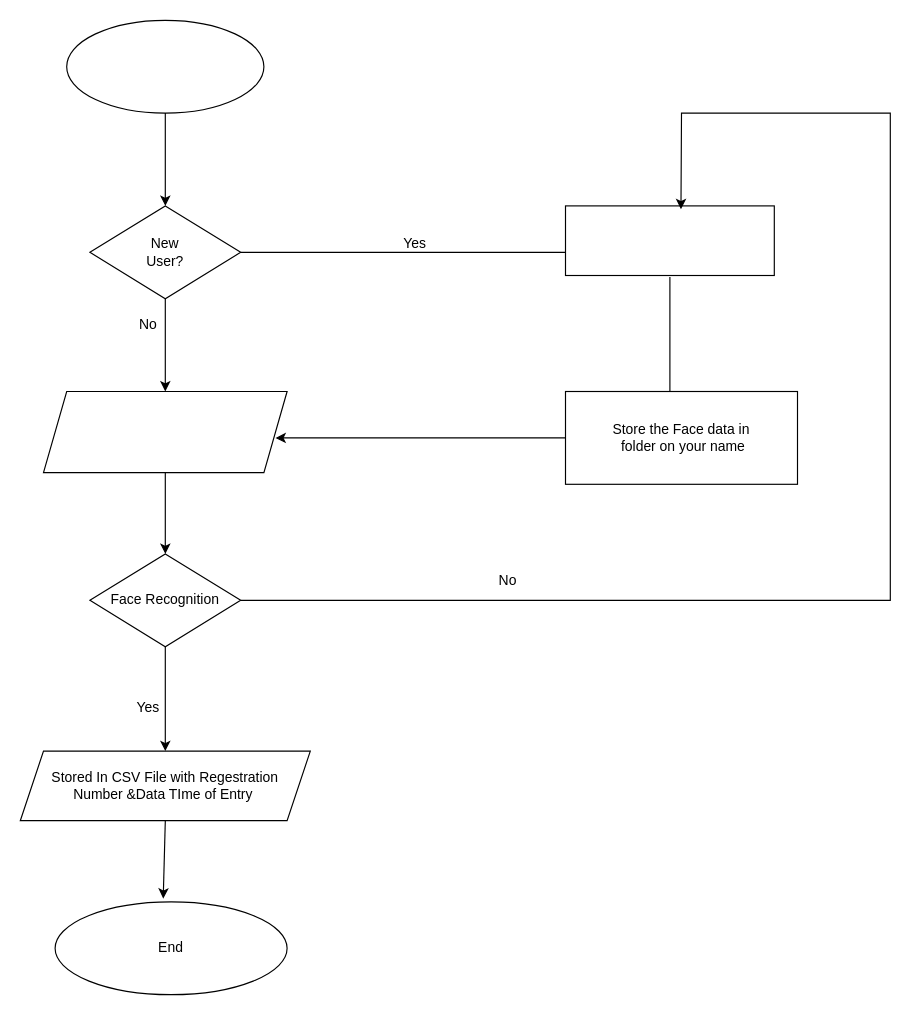
The diagram is 920 pixels wide and 1015 high, and some of its shapes have lost their labels. Here are the shapes that lost their labels. From the top down, the centre of each, then its label:
At (x=165, y=66): "Start".
At (x=669, y=240): "Give Your Photography".
At (x=164, y=431): "Recognition the Face".
